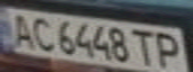4: (90, 22, 112, 61), (72, 20, 93, 58)
6: (51, 18, 75, 56)
8: (109, 25, 133, 64)
A: (3, 10, 39, 48)
C: (27, 15, 57, 52)
P: (151, 29, 187, 71)
T: (130, 27, 160, 68)
